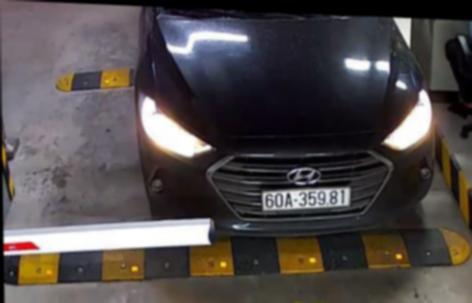License_Plate: (253, 179, 354, 218)
